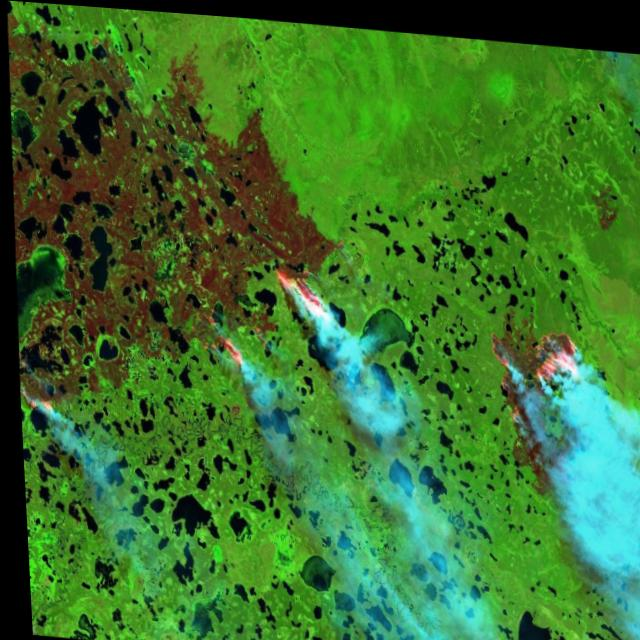fire: (477, 304, 584, 428), (262, 248, 333, 323), (187, 296, 255, 370), (15, 359, 61, 424)
